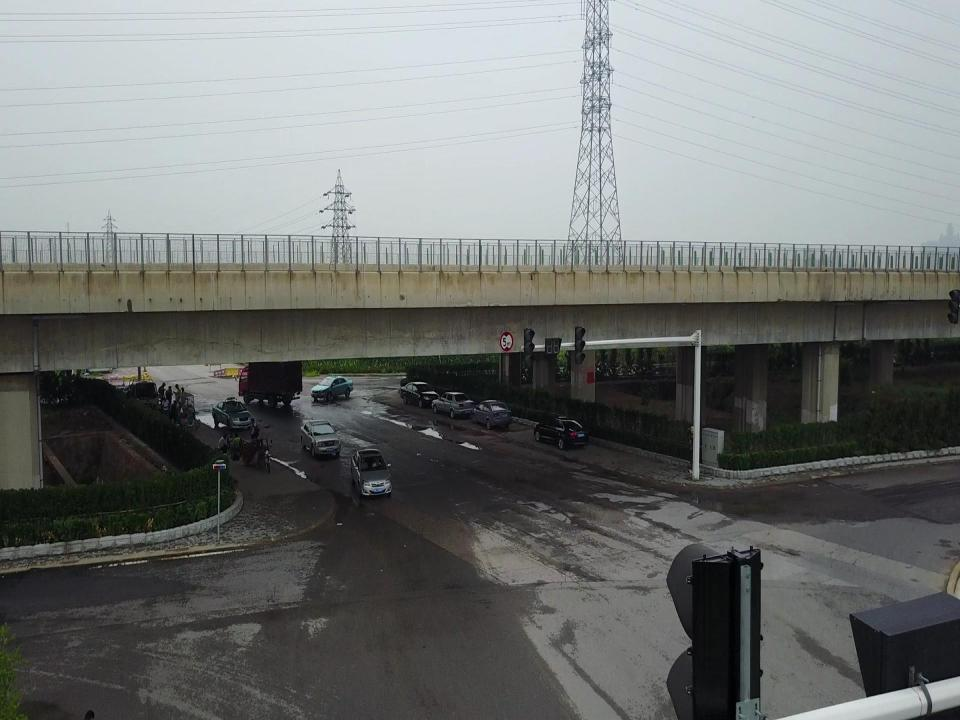car: (532, 416, 588, 450), (351, 449, 391, 496), (301, 420, 341, 461), (473, 399, 513, 432), (213, 398, 251, 432), (400, 380, 438, 411), (432, 391, 472, 420), (310, 377, 354, 403)
truck: (238, 356, 302, 407), (120, 377, 160, 414)
